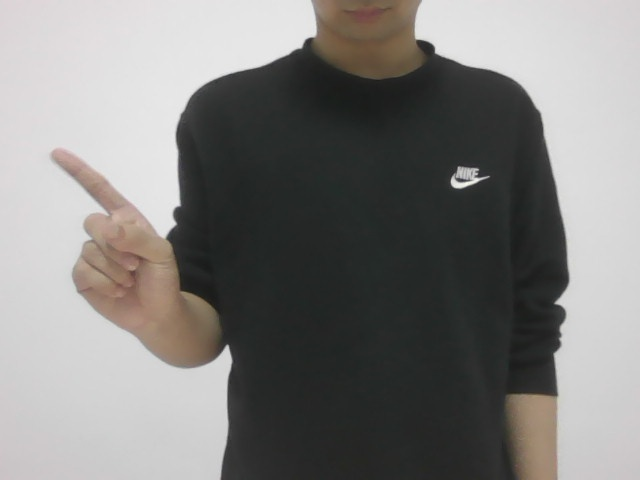what: (46, 139, 179, 346)
